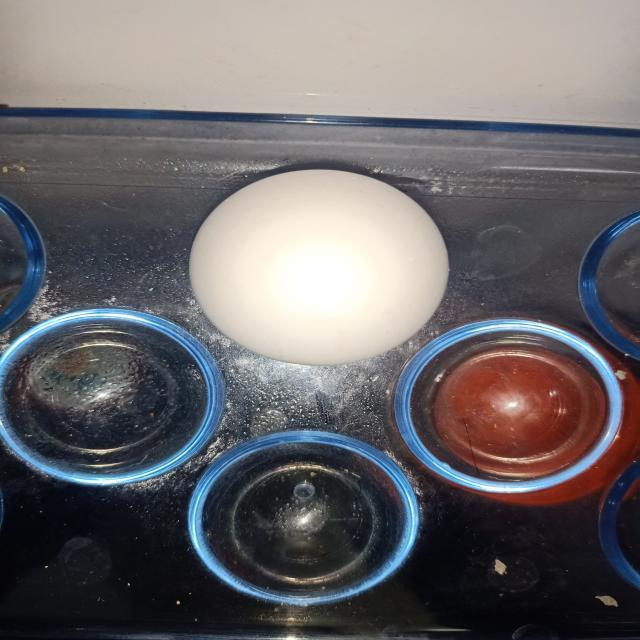Egg: (176, 157, 470, 395)
